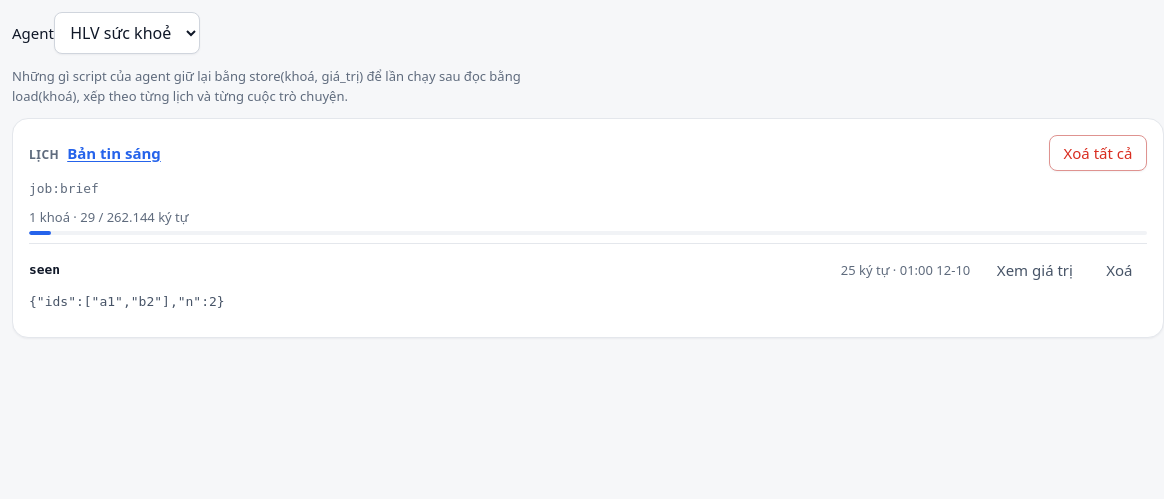
Test: a key's whole value › is read only when asked for, set out as JSON in a box of its own, and put away again
This screenshot has width=1164, height=499.
Step 1. Click the button "Xem giá trị" → (1035,270), box [982,252,1088,288]
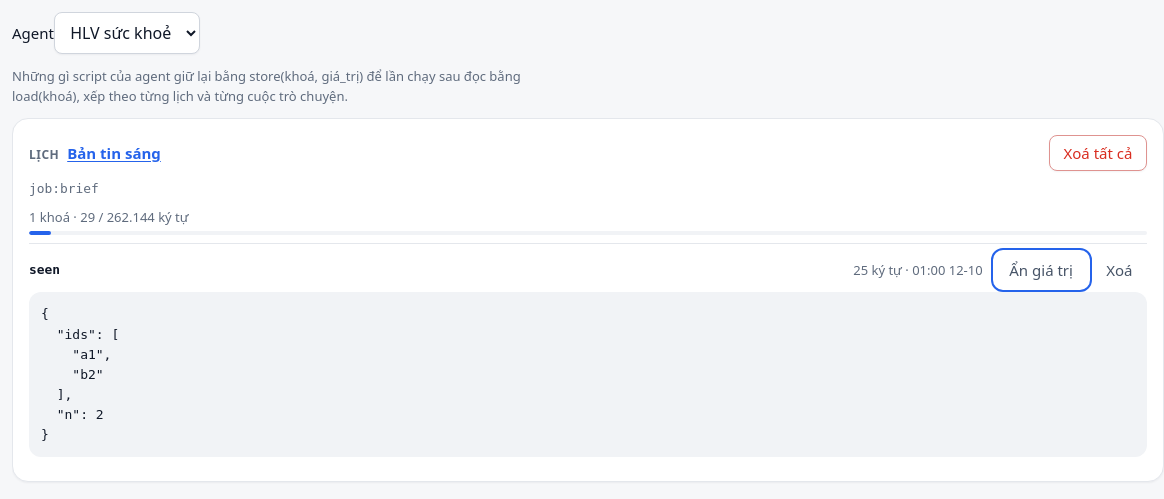
Check: the text with test id "script-store-preview" is gone
Step 2. Click the button "Ẩn giá trị" → (1041,270), box [995,252,1088,288]
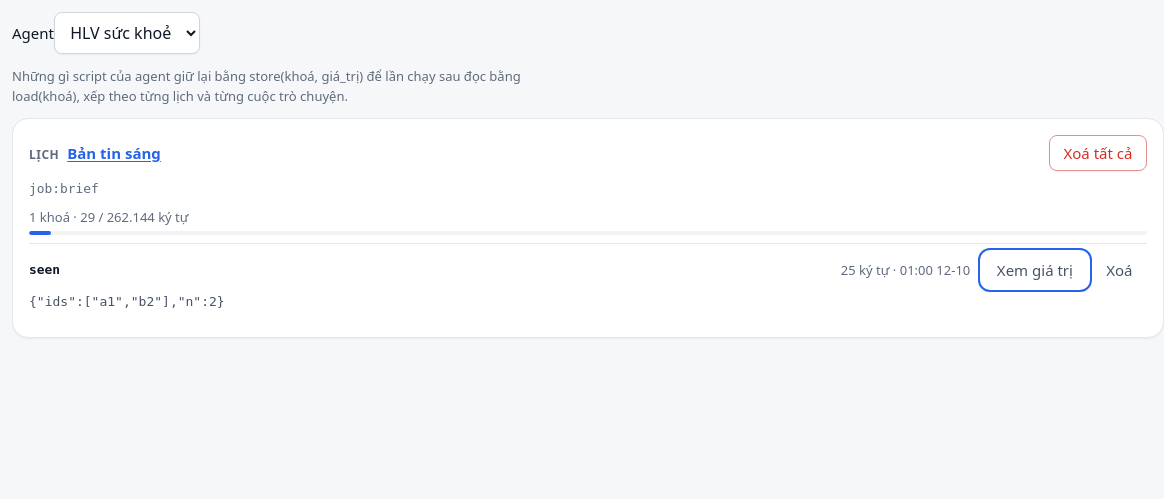
Check: the text with test id "script-store-value" is gone
Check: the text with test id "script-store-preview" reads "{\"ids\":[\"a1\",\"b2\"],\"n\":2}", box [29,294,225,309]
